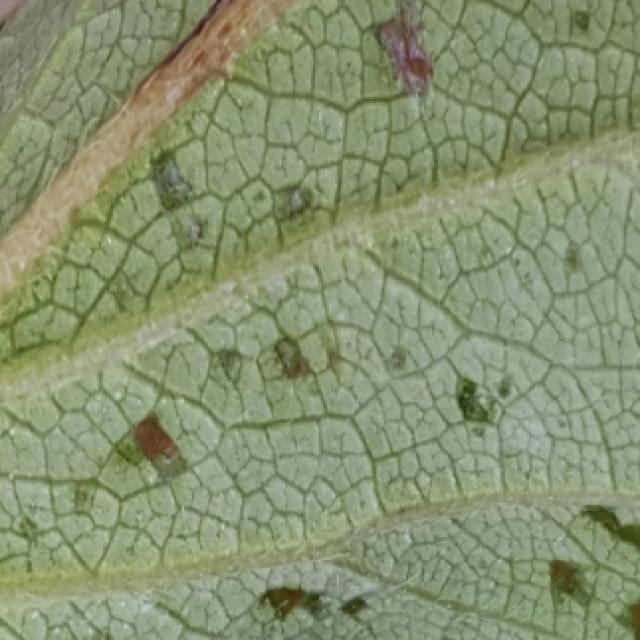Angular Leafspot: (0, 0, 640, 640)
